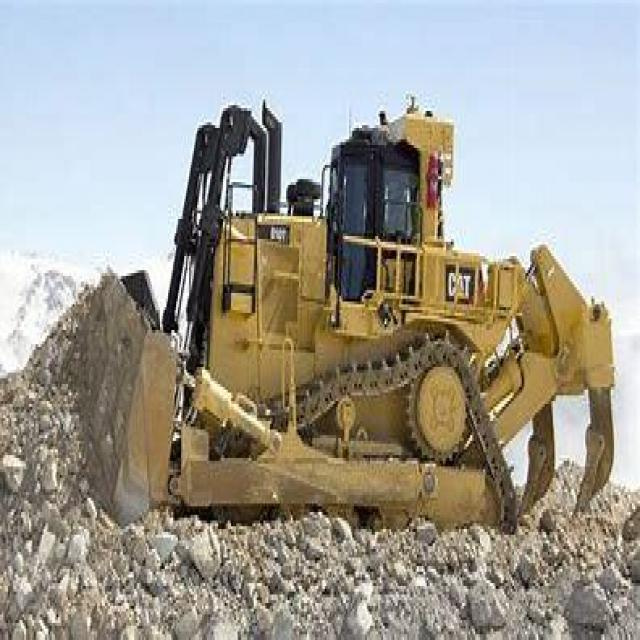Bulldozer: (40, 86, 620, 574)
